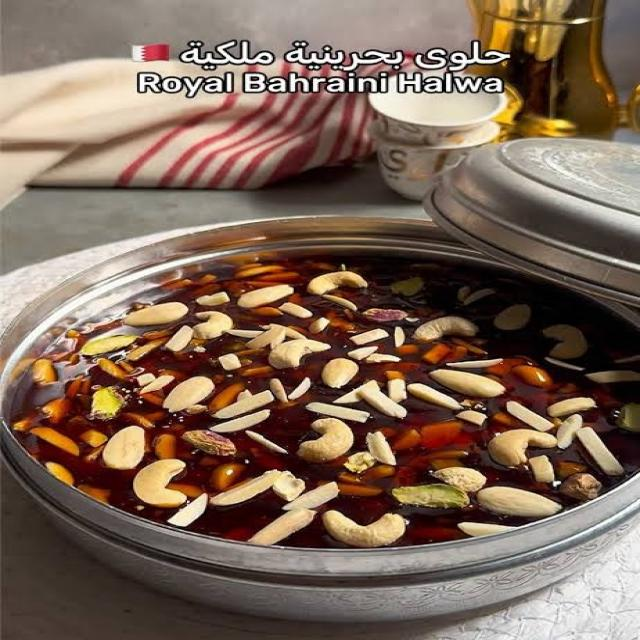Halwa: (2, 243, 640, 553)
